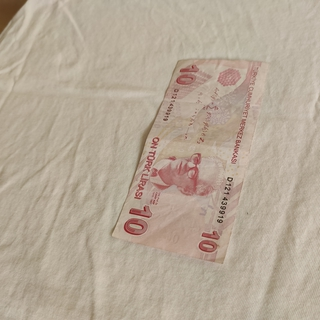10TLBack: (111, 58, 263, 264)
